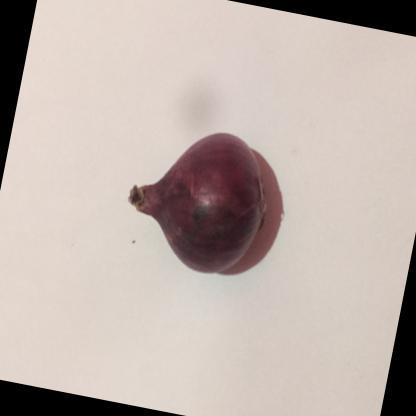onion: (103, 102, 304, 316)
